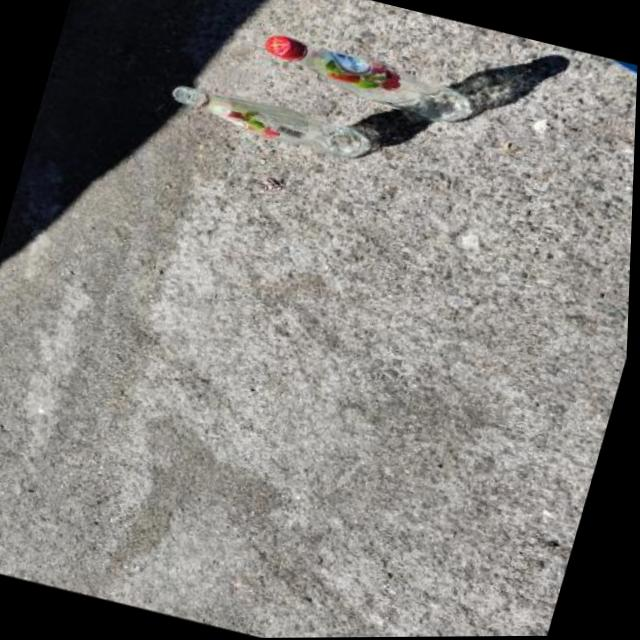glass: (254, 32, 479, 133), (162, 80, 372, 167)
